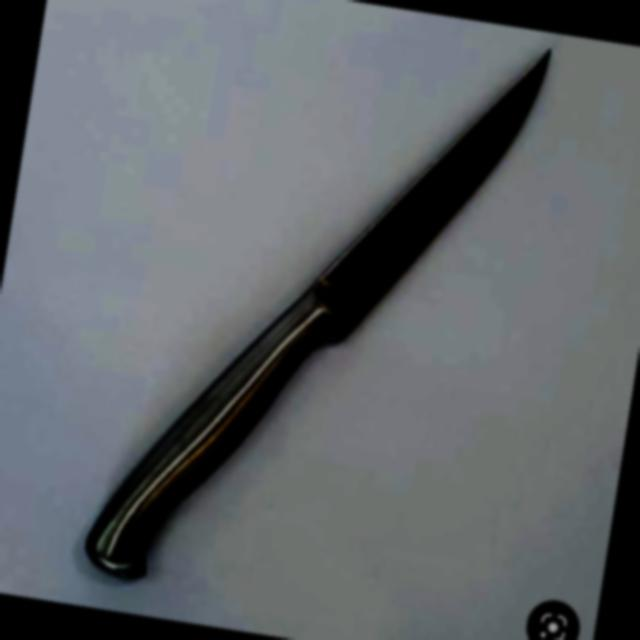knife: (45, 0, 566, 640)
